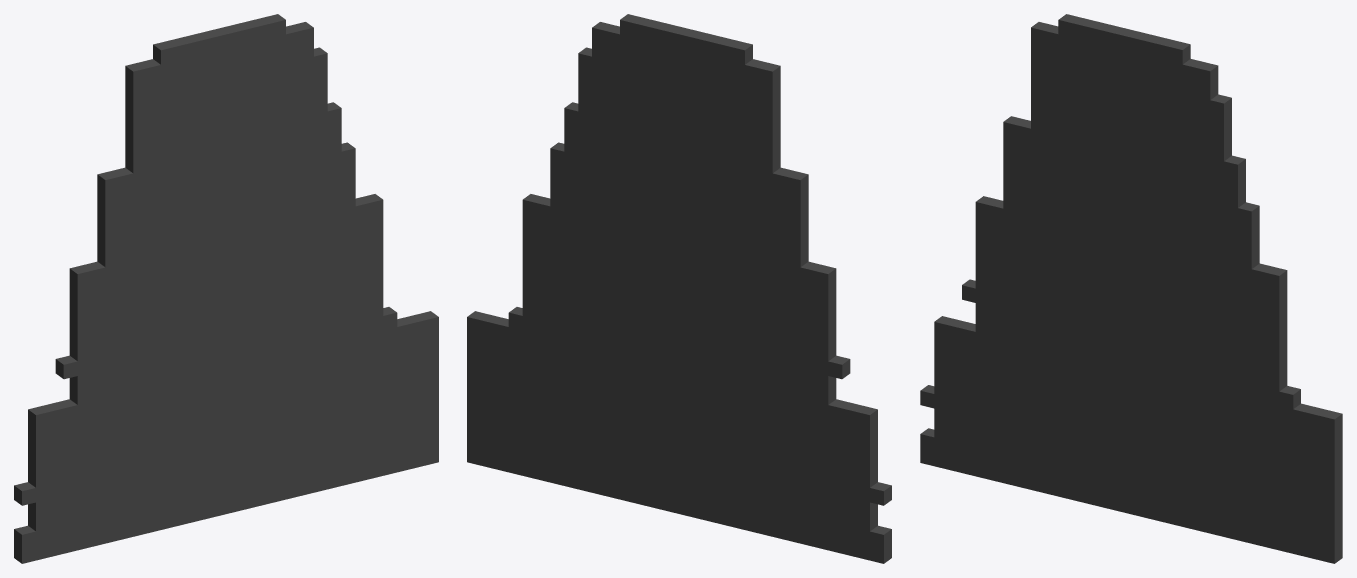
File: Portal ENtrance.obj
The picture shows the model from 3 angles, left to right: view 1: azimuth 30°, elevation 25°; view 2: azimuth 150°, elevation 25°; view 3: azimuth 330°, elevation 25°; orthographic projection.
Bounding box in the file's own units: 3 × 3.3 × 0.1.
